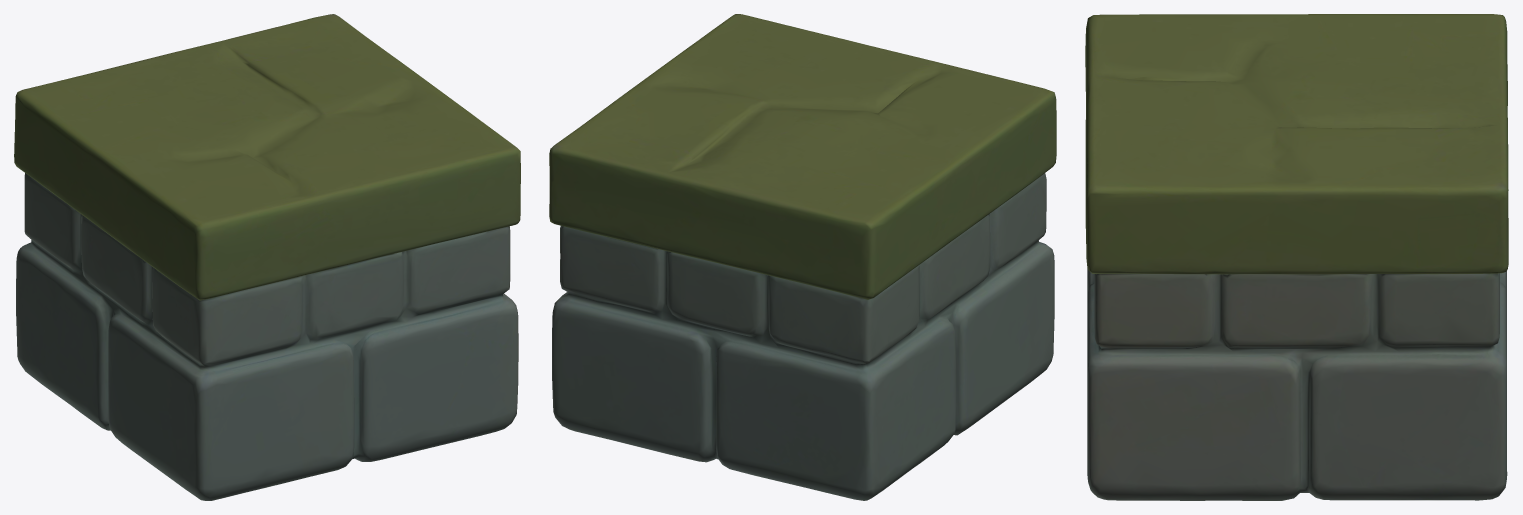
File: grass_v7_orm.1k.glb
3 views of the same model, side by side, from view 1: azimuth 30°, elevation 25°; view 2: azimuth 150°, elevation 25°; view 3: azimuth 270°, elevation 25° (orthographic). The views are drawn at different scales.
Parts seen in each view (by area): view 1: tripo_node_4502d38e-2dda-4b25-8010-c4ac6b404b5c; view 2: tripo_node_4502d38e-2dda-4b25-8010-c4ac6b404b5c; view 3: tripo_node_4502d38e-2dda-4b25-8010-c4ac6b404b5c.
Part boxes in pixels (x1,y1,x2,y2): tripo_node_4502d38e-2dda-4b25-8010-c4ac6b404b5c: (14, 14, 520, 500); tripo_node_4502d38e-2dda-4b25-8010-c4ac6b404b5c: (549, 14, 1056, 500); tripo_node_4502d38e-2dda-4b25-8010-c4ac6b404b5c: (1085, 14, 1508, 500).
Bounding box in the file's own units: 0.9957 × 0.841 × 1.
Materials: 1 (1 with a texture image).
